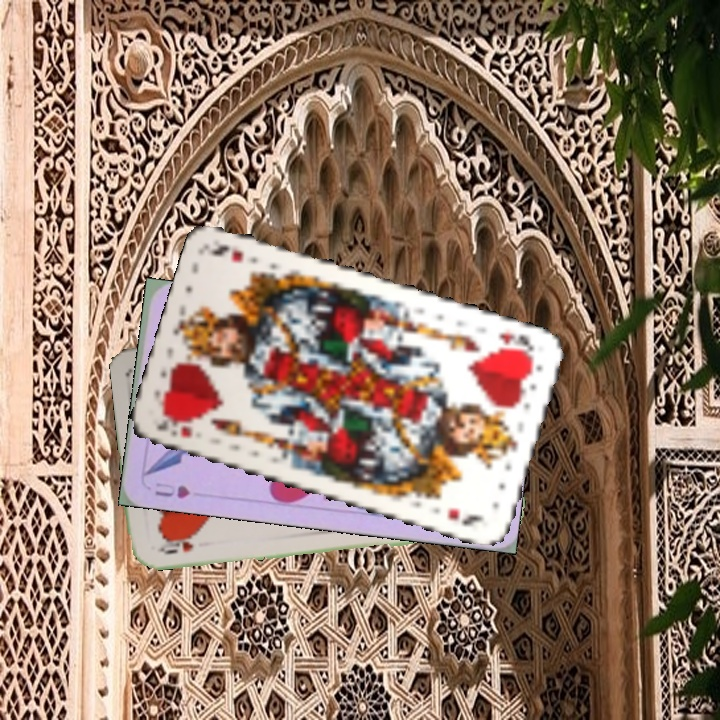HK: (493, 328, 537, 360), (153, 410, 195, 441)
HO: (154, 531, 201, 557)
HU: (151, 478, 192, 501)
